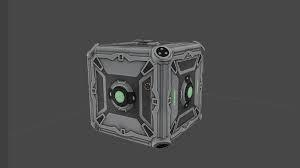cube: (87, 39, 204, 145)
